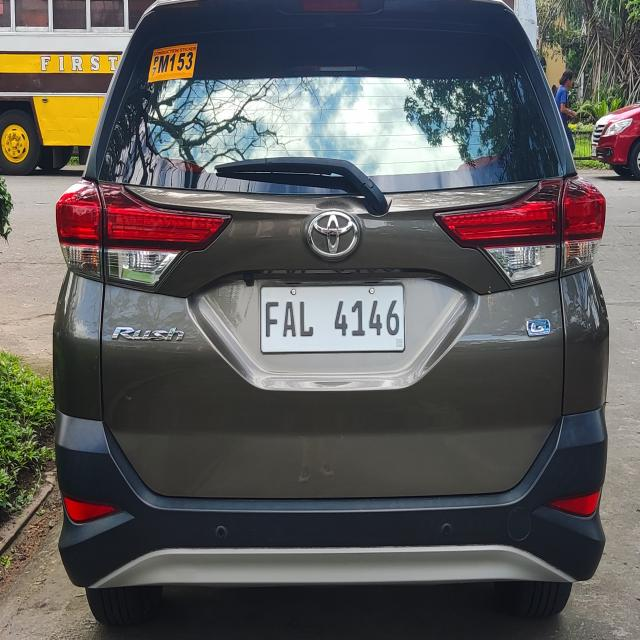plate: (258, 283, 406, 354)
